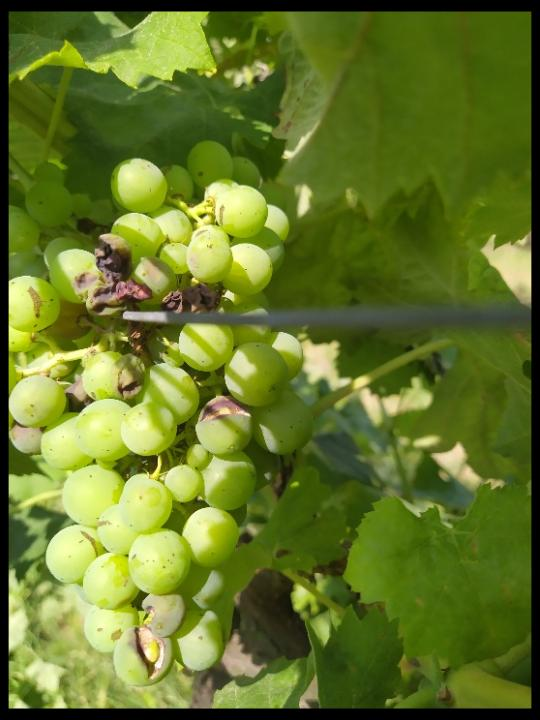grape: (12, 137, 317, 690)
